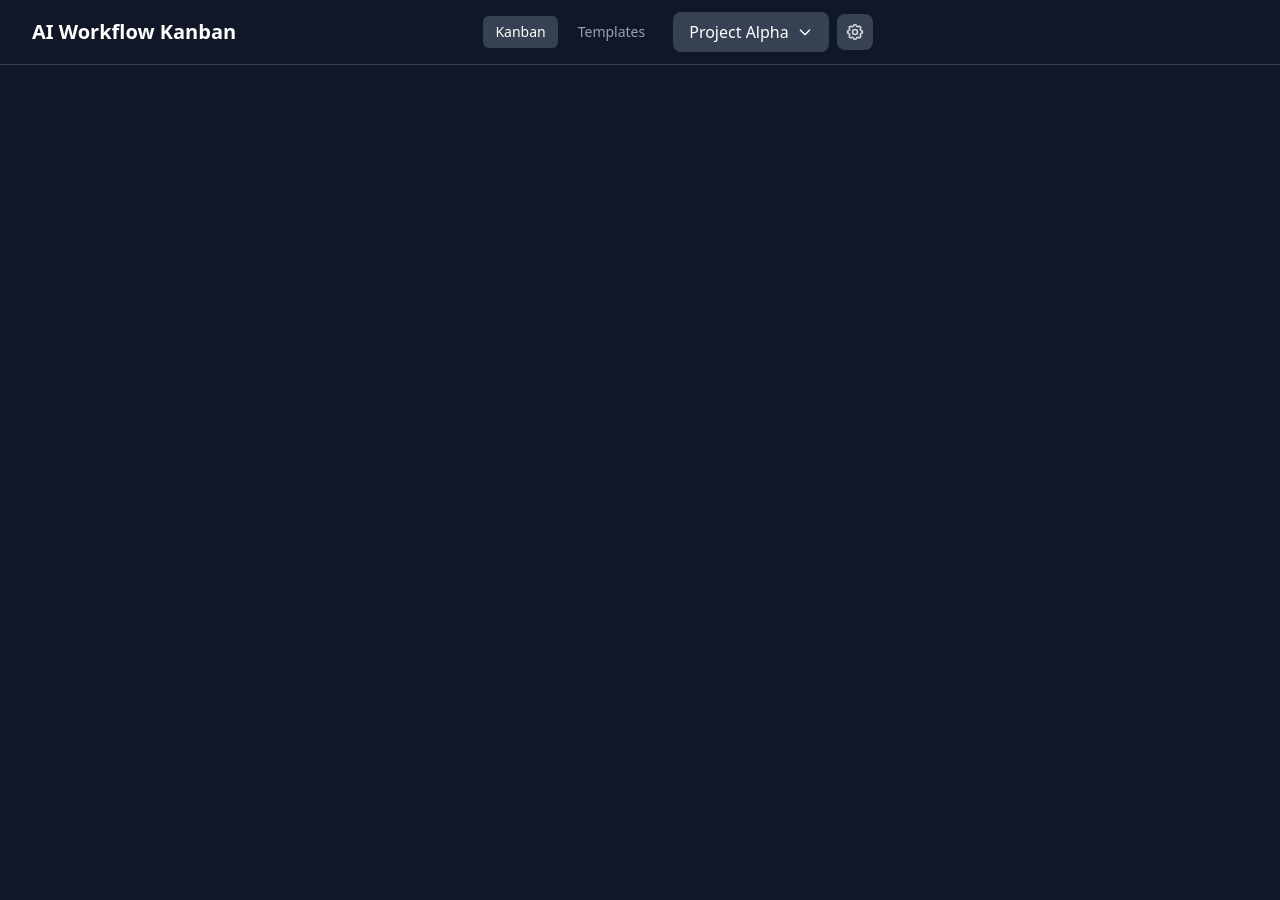
Header › Settings Modal Integration › should close settings modal when clicking cancel
Step 1. Click the button named "settings" → (855, 32), box [837,14,873,50]
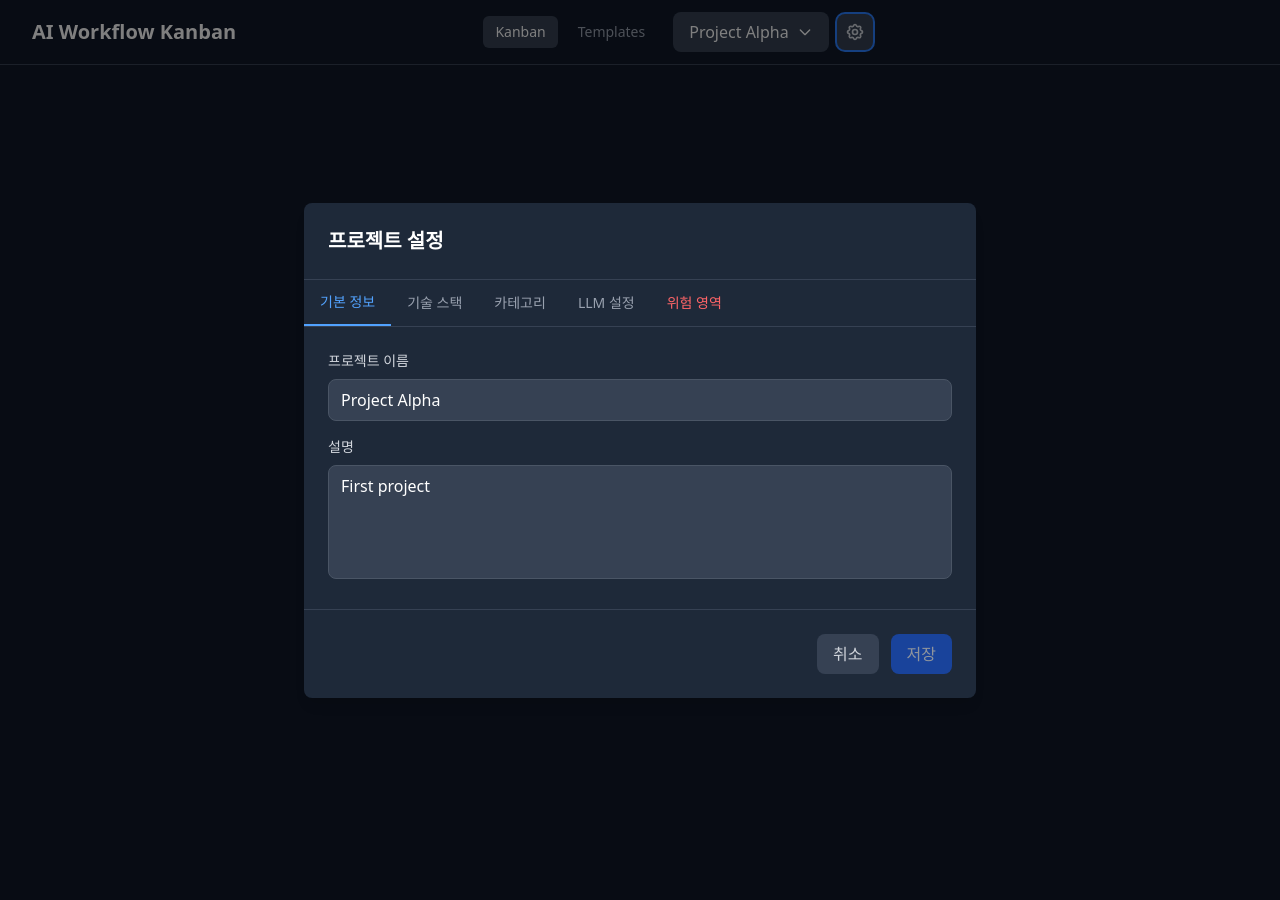
Now the heading "프로젝트 설정" is shown, box [328,226,444,254]
Step 2. Click the button "취소" → (848, 654), box [817,634,879,674]
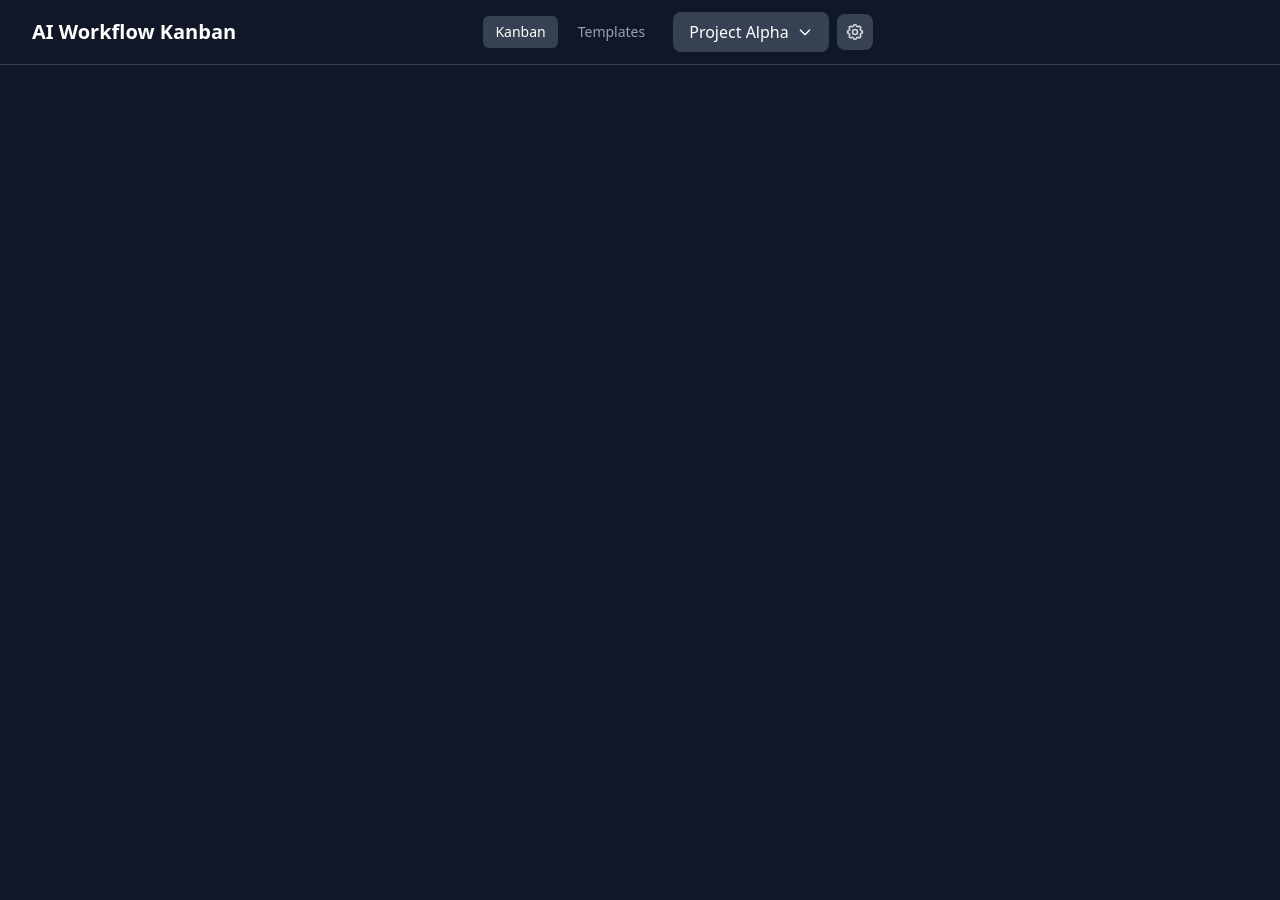
Now the heading "프로젝트 설정" is gone
